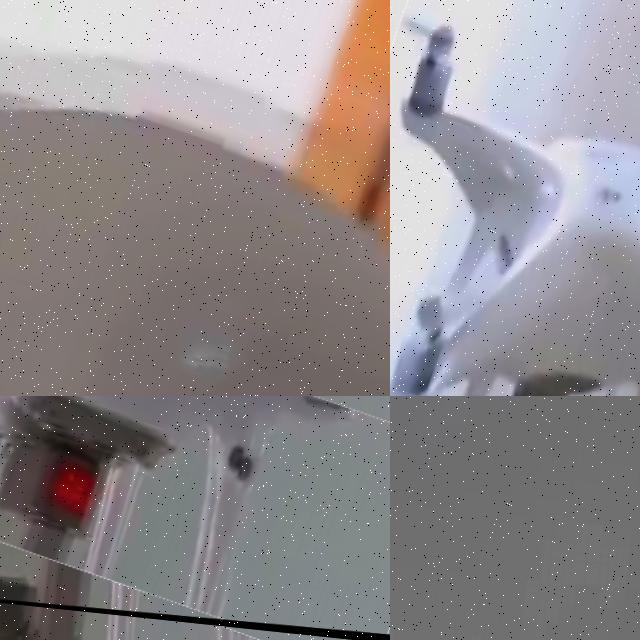drone: (0, 0, 390, 396), (390, 0, 640, 396), (0, 396, 390, 640)
